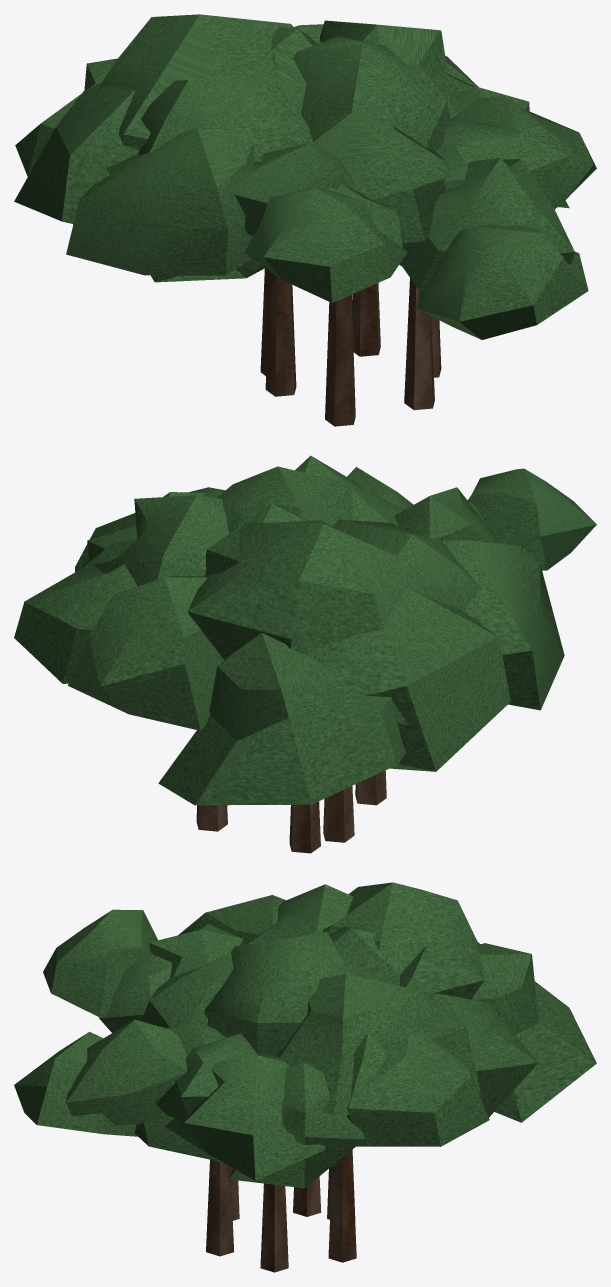
The model's file is shrub_3.glb.
3 renders of one model, top to bottom at view 1: azimuth 30°, elevation 25°; view 2: azimuth 150°, elevation 25°; view 3: azimuth 270°, elevation 25°, orthographic. The views are drawn at different scales.
Parts seen in each view (by area): view 1: shrub_3; view 2: shrub_3; view 3: shrub_3.
Boxes of the visible parts, box(x1,y1,x2,y2) form: shrub_3: box(14, 14, 596, 426); shrub_3: box(14, 455, 596, 853); shrub_3: box(14, 882, 596, 1272).
Size of the model in its own units: 1.89 by 1.28 by 2.16.
2 materials, 2 textured.
